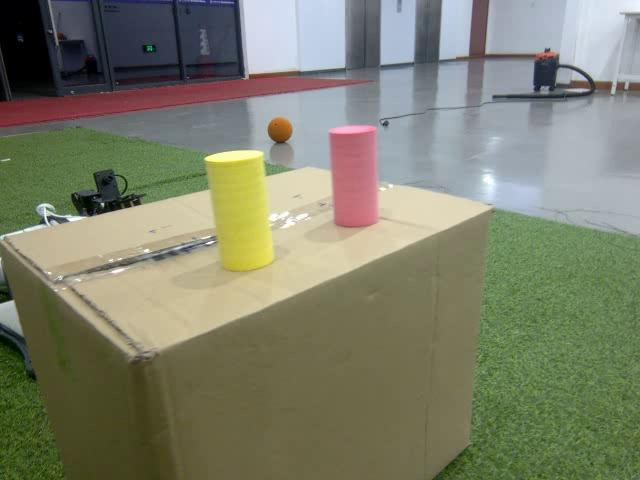orange_ball: (266, 116, 294, 144)
red_cylinder: (327, 124, 383, 229)
yellow_cylinder: (205, 148, 277, 273)
